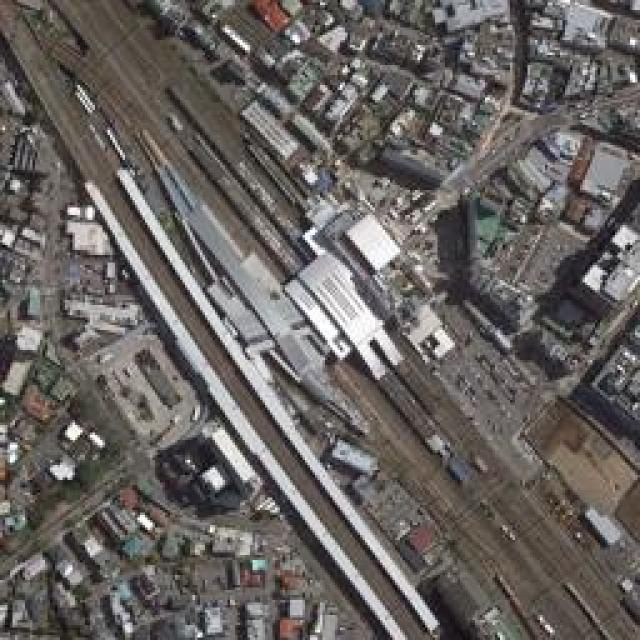City: (0, 0, 638, 638)
